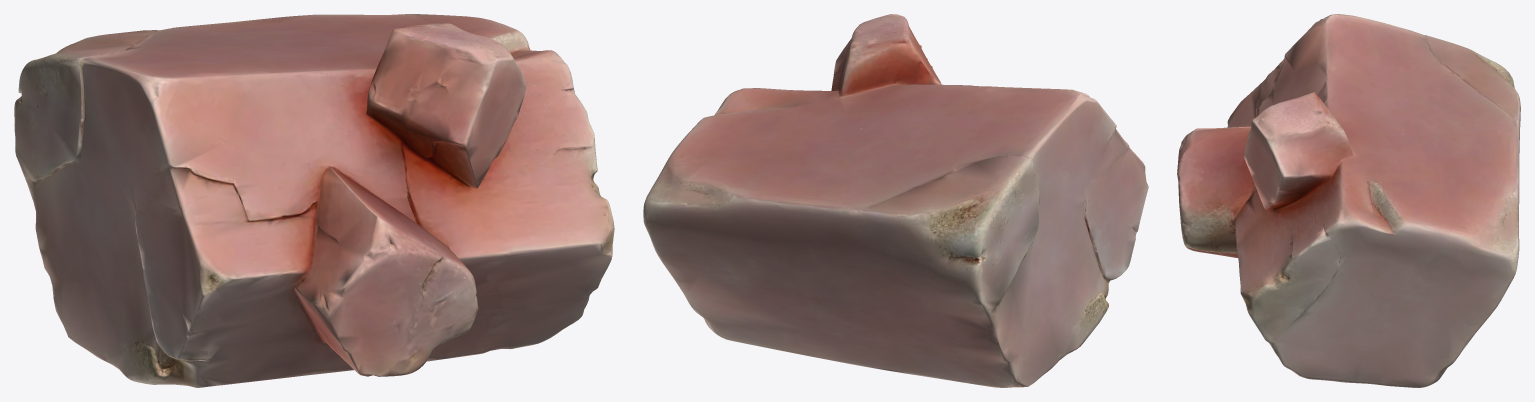
Rendered from feldspar.glb.
3 renders of one model, left to right at view 1: azimuth 30°, elevation 25°; view 2: azimuth 150°, elevation 25°; view 3: azimuth 270°, elevation 25°, orthographic. The views are drawn at different scales.
Parts seen in each view (by area): view 1: node_0; view 2: node_0; view 3: node_0.
Part boxes in pixels (x1,y1,x2,y2): node_0: [14, 14, 614, 387]; node_0: [643, 14, 1148, 387]; node_0: [1177, 14, 1520, 387].
Bounding box in the file's own units: 0.8899 × 0.6659 × 0.8609.
Materials: 1 (1 with a texture image).
